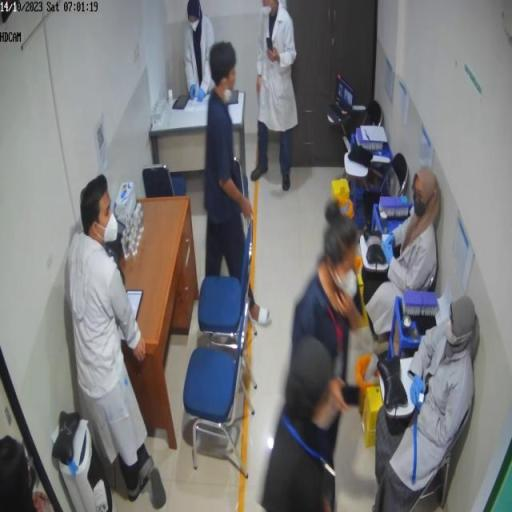person: (67, 175, 168, 508), (374, 297, 480, 508), (286, 201, 367, 475), (205, 42, 273, 330), (362, 169, 442, 337), (264, 337, 339, 511), (251, 1, 299, 192), (184, 2, 216, 103), (1, 437, 38, 512)
